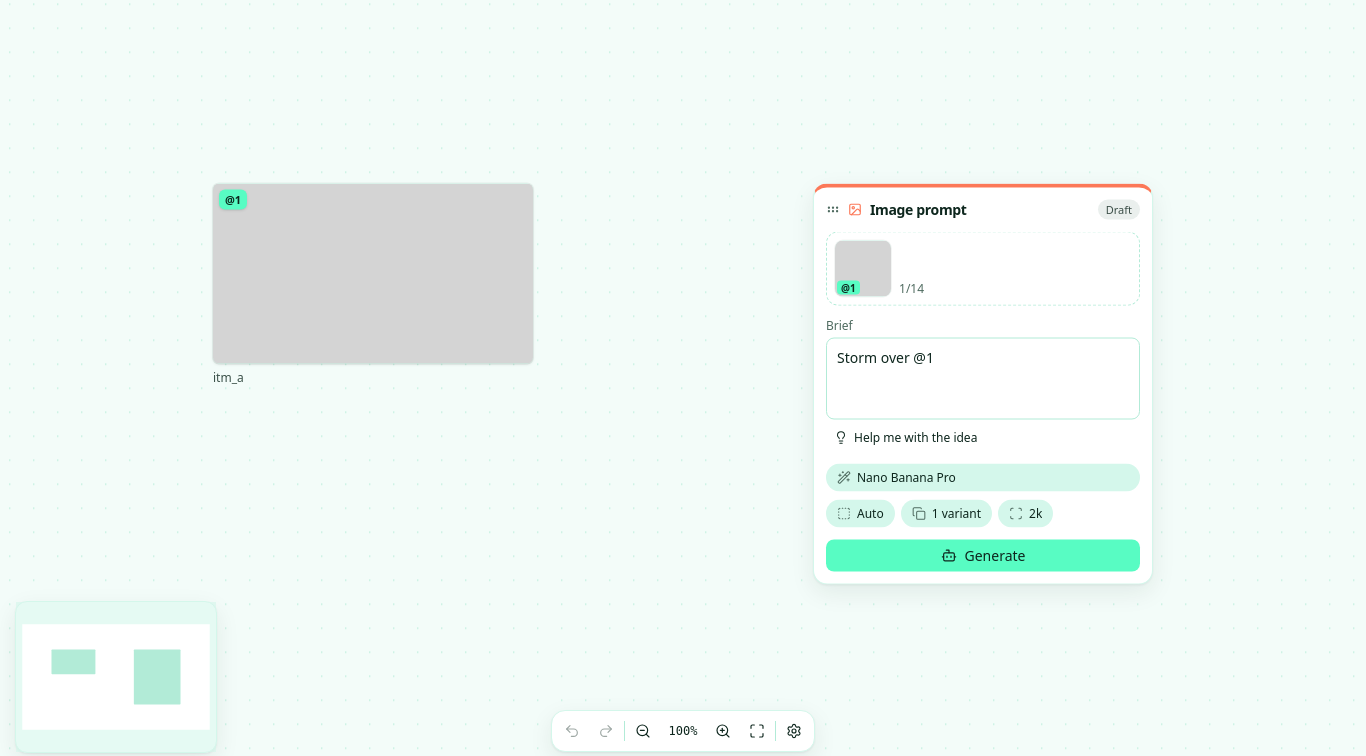
Test: Prompt cards › lets Claude develop and refine the idea before the brief is used
Replace the text in the text box with test id "prompt-brief" with "make @1 move". click: (983, 378)
box: [827,338,1139,418]
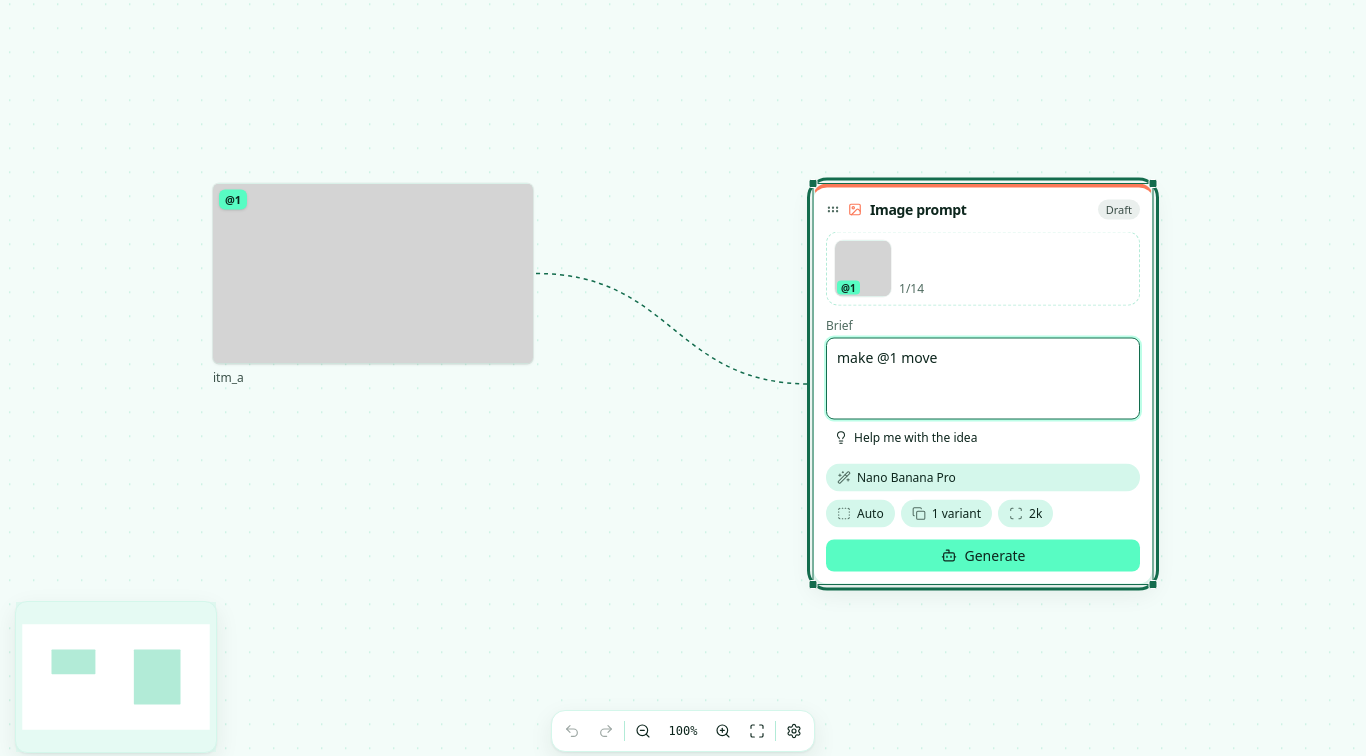
Click the button with test id "prompt-develop-idea". click: click(906, 438)
box: [826,424,985,452]
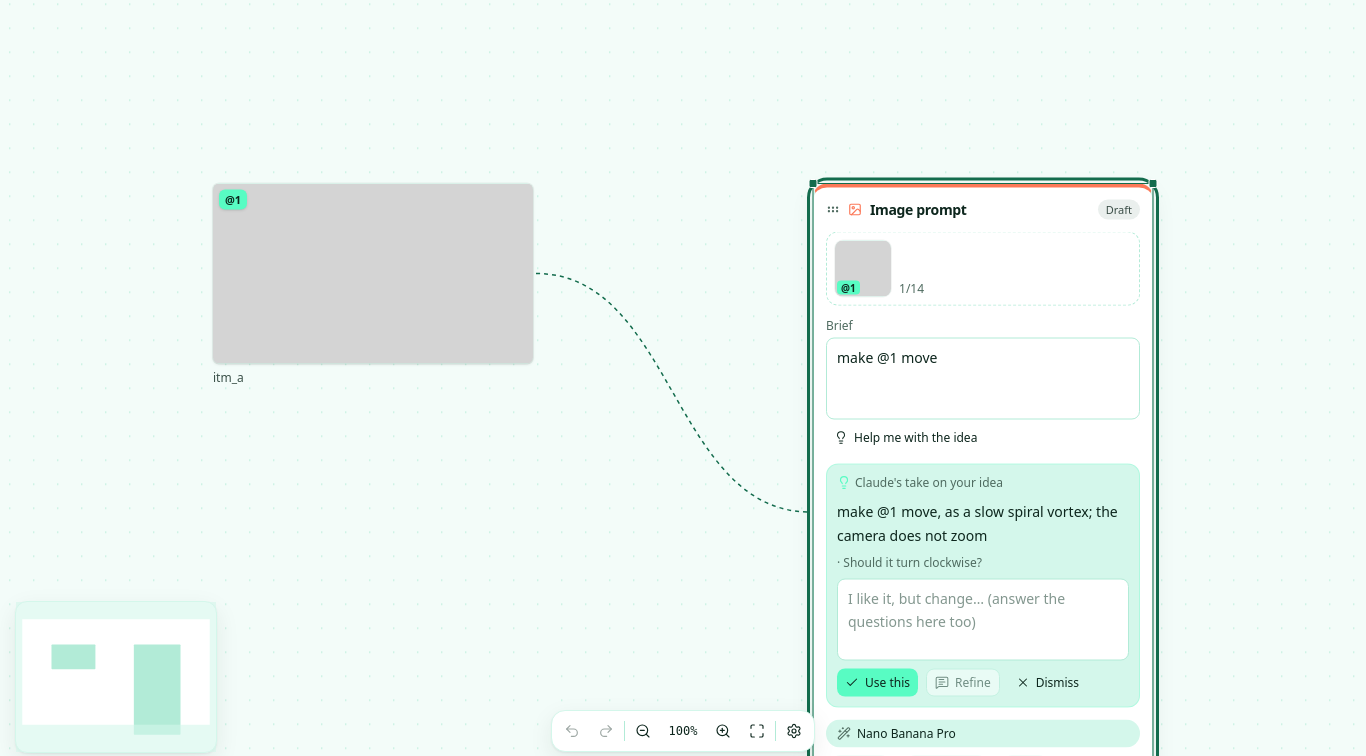
Check: the text with test id "prompt-idea-brief" reads "make @1 move, as a slow spiral vortex; the camera does not zoom", box [837,502,1121,544]
Check: the text "· Should it turn clockwise?" is shown, box [837,554,982,570]
Type "clockwise, faster" into the text box with test id "prompt-idea-feedback". click: (983, 620)
box: [838,580,1128,660]
Click the button with test id "prompt-idea-refine". click: click(963, 682)
box: [926,668,1000,696]
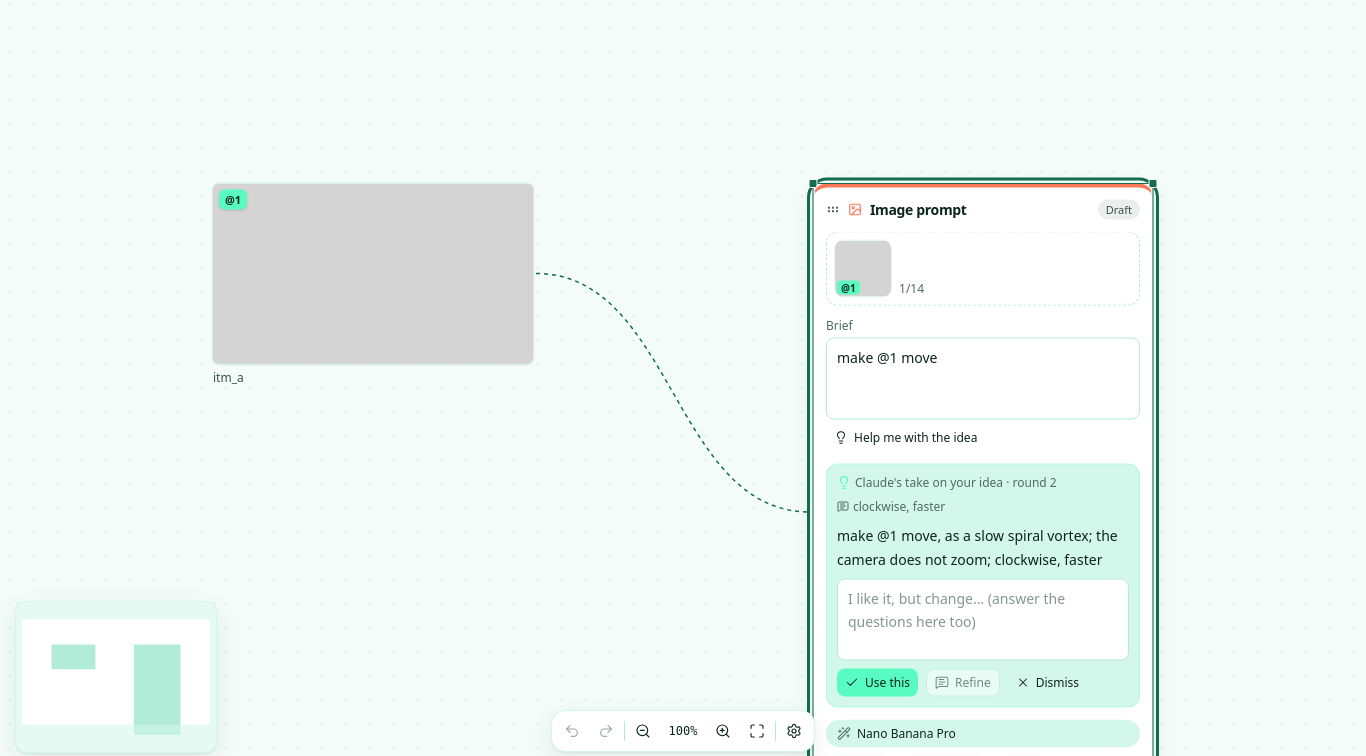
Check: the text with test id "prompt-idea-brief" shows "the camera does not zoom; clockwise, faster", box [837,526,1121,568]
Check: the element with test id "prompt-idea-history" reads "clockwise, faster", box [853,498,945,514]
Check: the text "Claude's take on your idea · round 2" is shown, box [855,474,1057,490]
Click the button with test id "prompt-idea-use". click: click(878, 682)
box: [837,668,918,696]
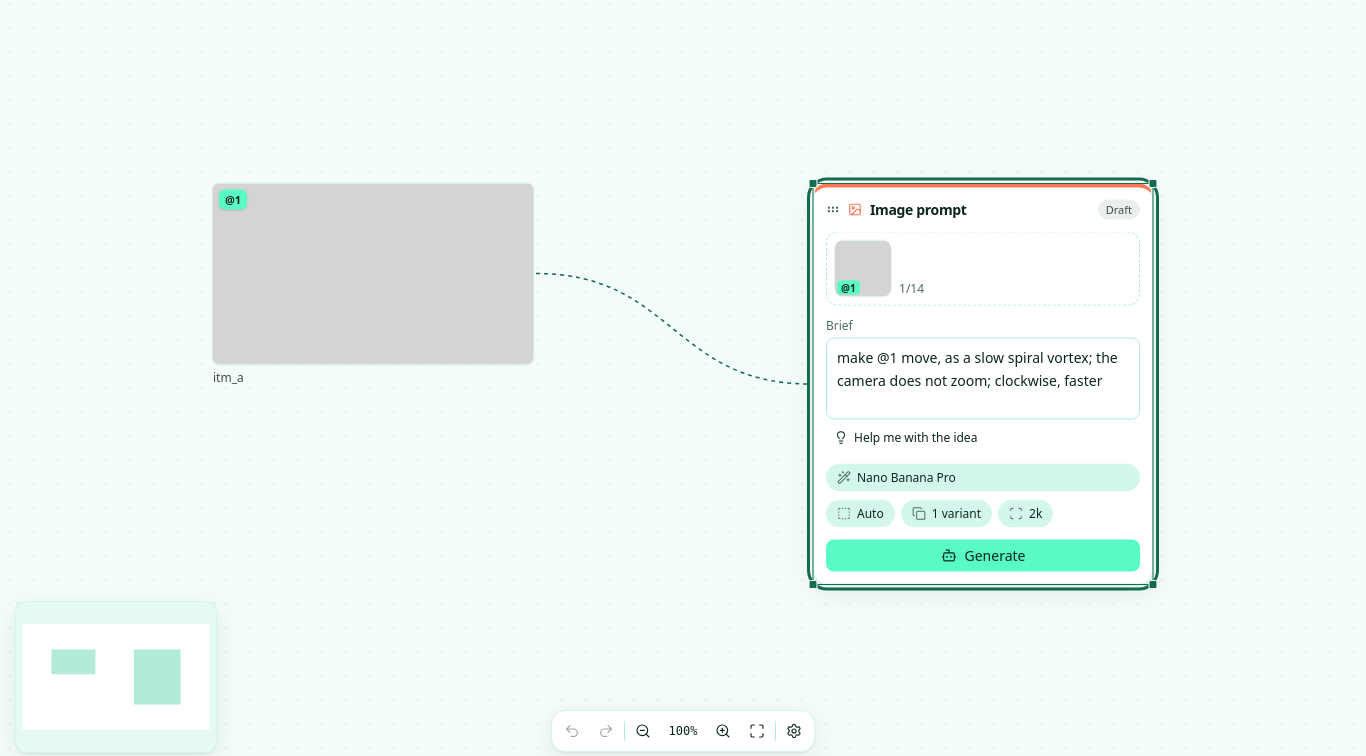
Check: the element with test id "prompt-idea" is gone
Click the button with test id "prompt-develop-idea". click: click(906, 438)
box: [826,424,985,452]
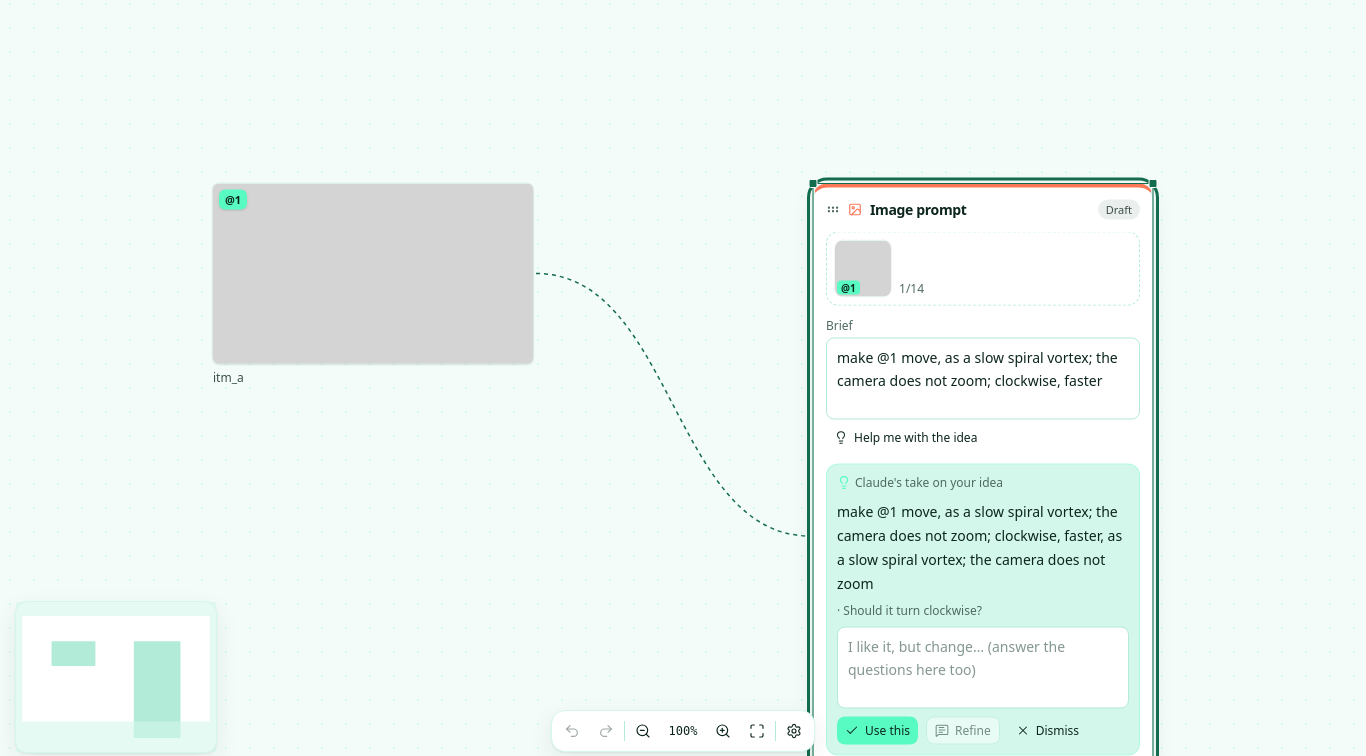
Click the button with test id "prompt-idea-dismiss". click: click(1047, 730)
box: [1008,716,1087,744]
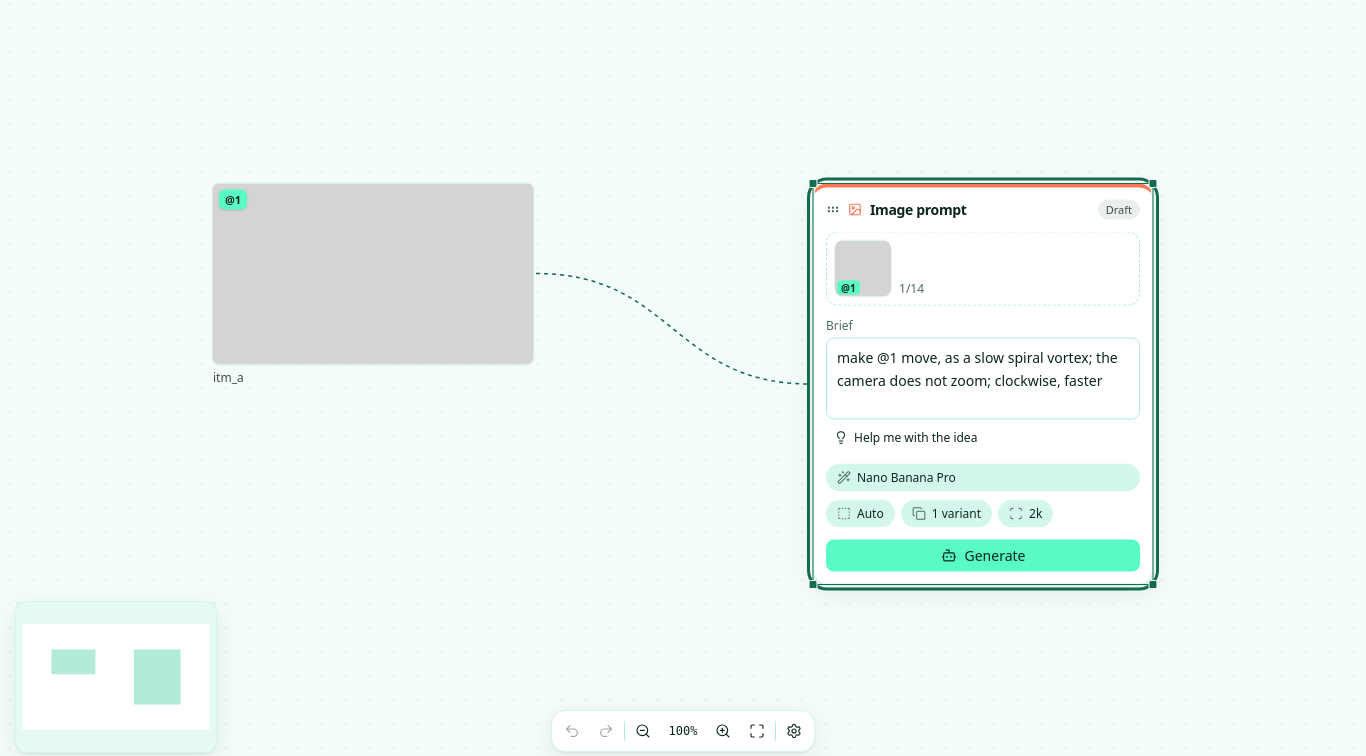
Check: the element with test id "prompt-idea" is gone
